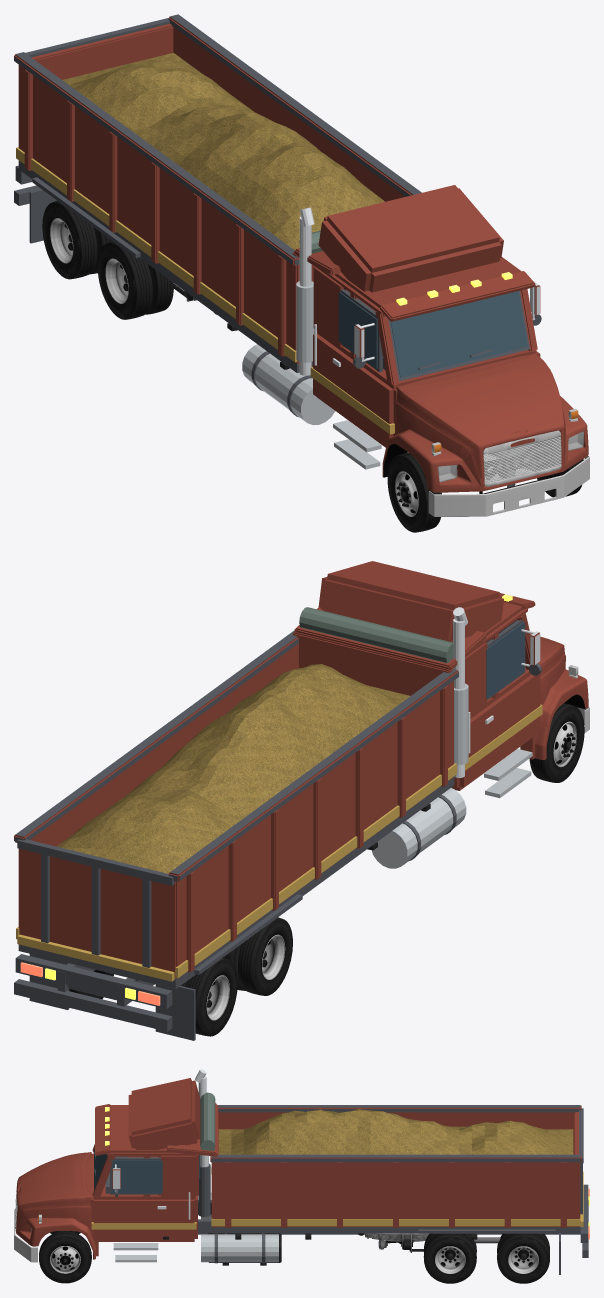
Rendered from forage_truck.glb.
The picture shows the model from 3 angles, top to bottom: view 1: azimuth 30°, elevation 25°; view 2: azimuth 150°, elevation 25°; view 3: azimuth 270°, elevation 25°; orthographic projection. The views are drawn at different scales.
Visible parts, largest first — view 1: FL70_CabFrame, Bed_Tilt, FL70_HoodChassis, Cargo_Forage, Wheel_RR1, Wheel_RR2, Wheel_FR; view 2: Bed_Tilt, FL70_CabFrame, Cargo_Forage, FL70_HoodChassis, Wheel_RR1, Wheel_RR2, Wheel_FR; view 3: Bed_Tilt, FL70_CabFrame, Cargo_Forage, FL70_HoodChassis, Wheel_RL2, Wheel_RL1, Wheel_FL, Dump_Hoist.
Boxes of the visible parts, x1,y1,x2,y2 form: FL70_CabFrame: (14, 165, 541, 469); Bed_Tilt: (14, 14, 421, 372); FL70_HoodChassis: (173, 283, 589, 516); Cargo_Forage: (62, 53, 384, 249); Wheel_RR1: (97, 241, 173, 319); Wheel_RR2: (42, 200, 112, 279); Wheel_FR: (387, 452, 441, 532); Bed_Tilt: (14, 607, 486, 989); FL70_CabFrame: (14, 561, 542, 1040); Cargo_Forage: (56, 664, 410, 873); FL70_HoodChassis: (367, 634, 589, 850); Wheel_RR1: (223, 917, 292, 995); Wheel_RR2: (181, 958, 237, 1036); Wheel_FR: (529, 703, 584, 782); Bed_Tilt: (167, 1092, 583, 1233); FL70_CabFrame: (90, 1069, 589, 1274); Cargo_Forage: (218, 1109, 573, 1154); FL70_HoodChassis: (14, 1152, 500, 1265); Wheel_RL2: (497, 1233, 549, 1283); Wheel_RL1: (423, 1233, 476, 1283); Wheel_FL: (39, 1231, 91, 1283); Dump_Hoist: (198, 1155, 210, 1216).
Size of the model in its own units: 3.02 by 3.82 by 12.19.
25 materials, 13 textured.
